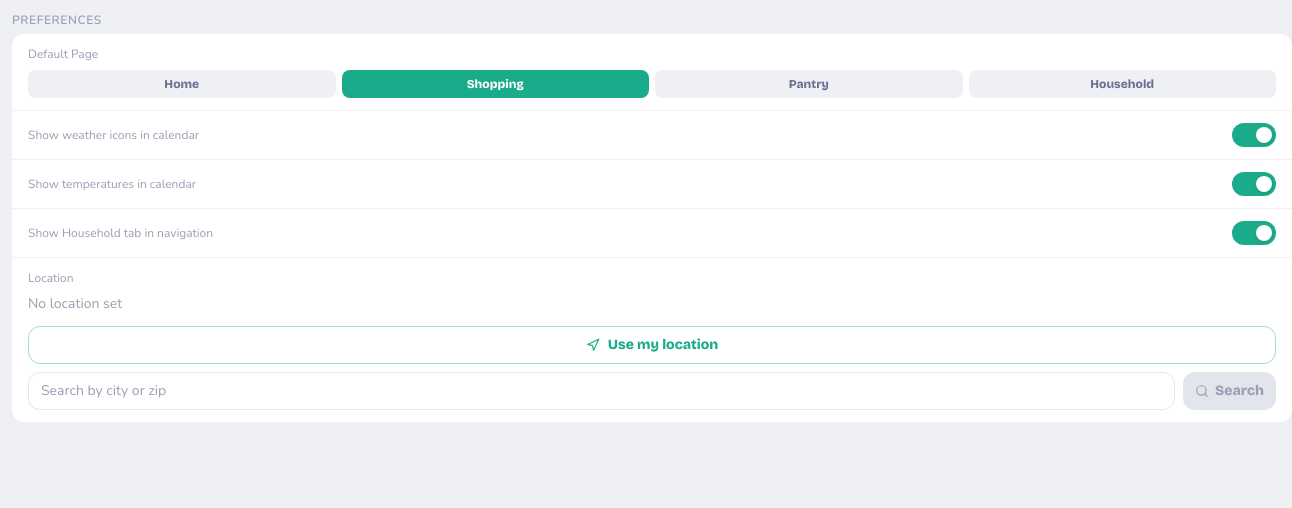
Test: PreferencesSection › shows city name from reverse geocoding after "Use my location"
Click the button "Use my location": (652, 345) [28, 326, 1276, 364]
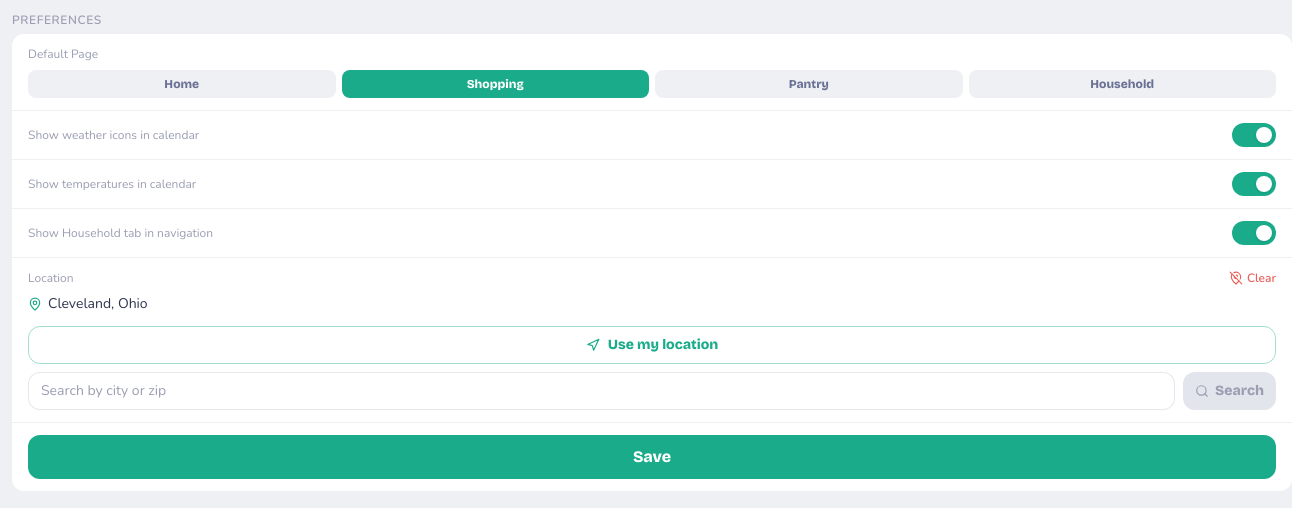
expect the text "Cleveland, Ohio" is shown: met, box [48, 294, 148, 314]
expect the button "Save" is shown: met, box [28, 435, 1276, 479]
